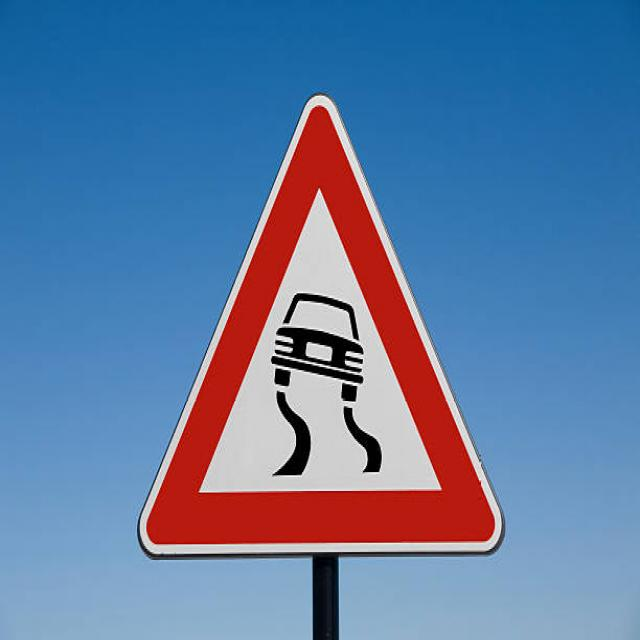road_slippery: (131, 88, 506, 563)
